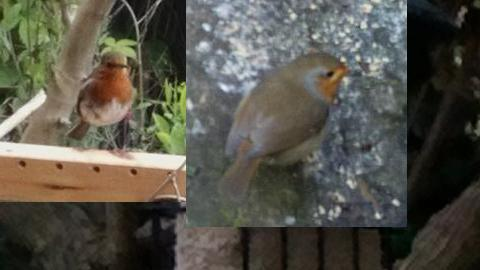robin: (216, 50, 357, 204), (64, 50, 136, 155)
